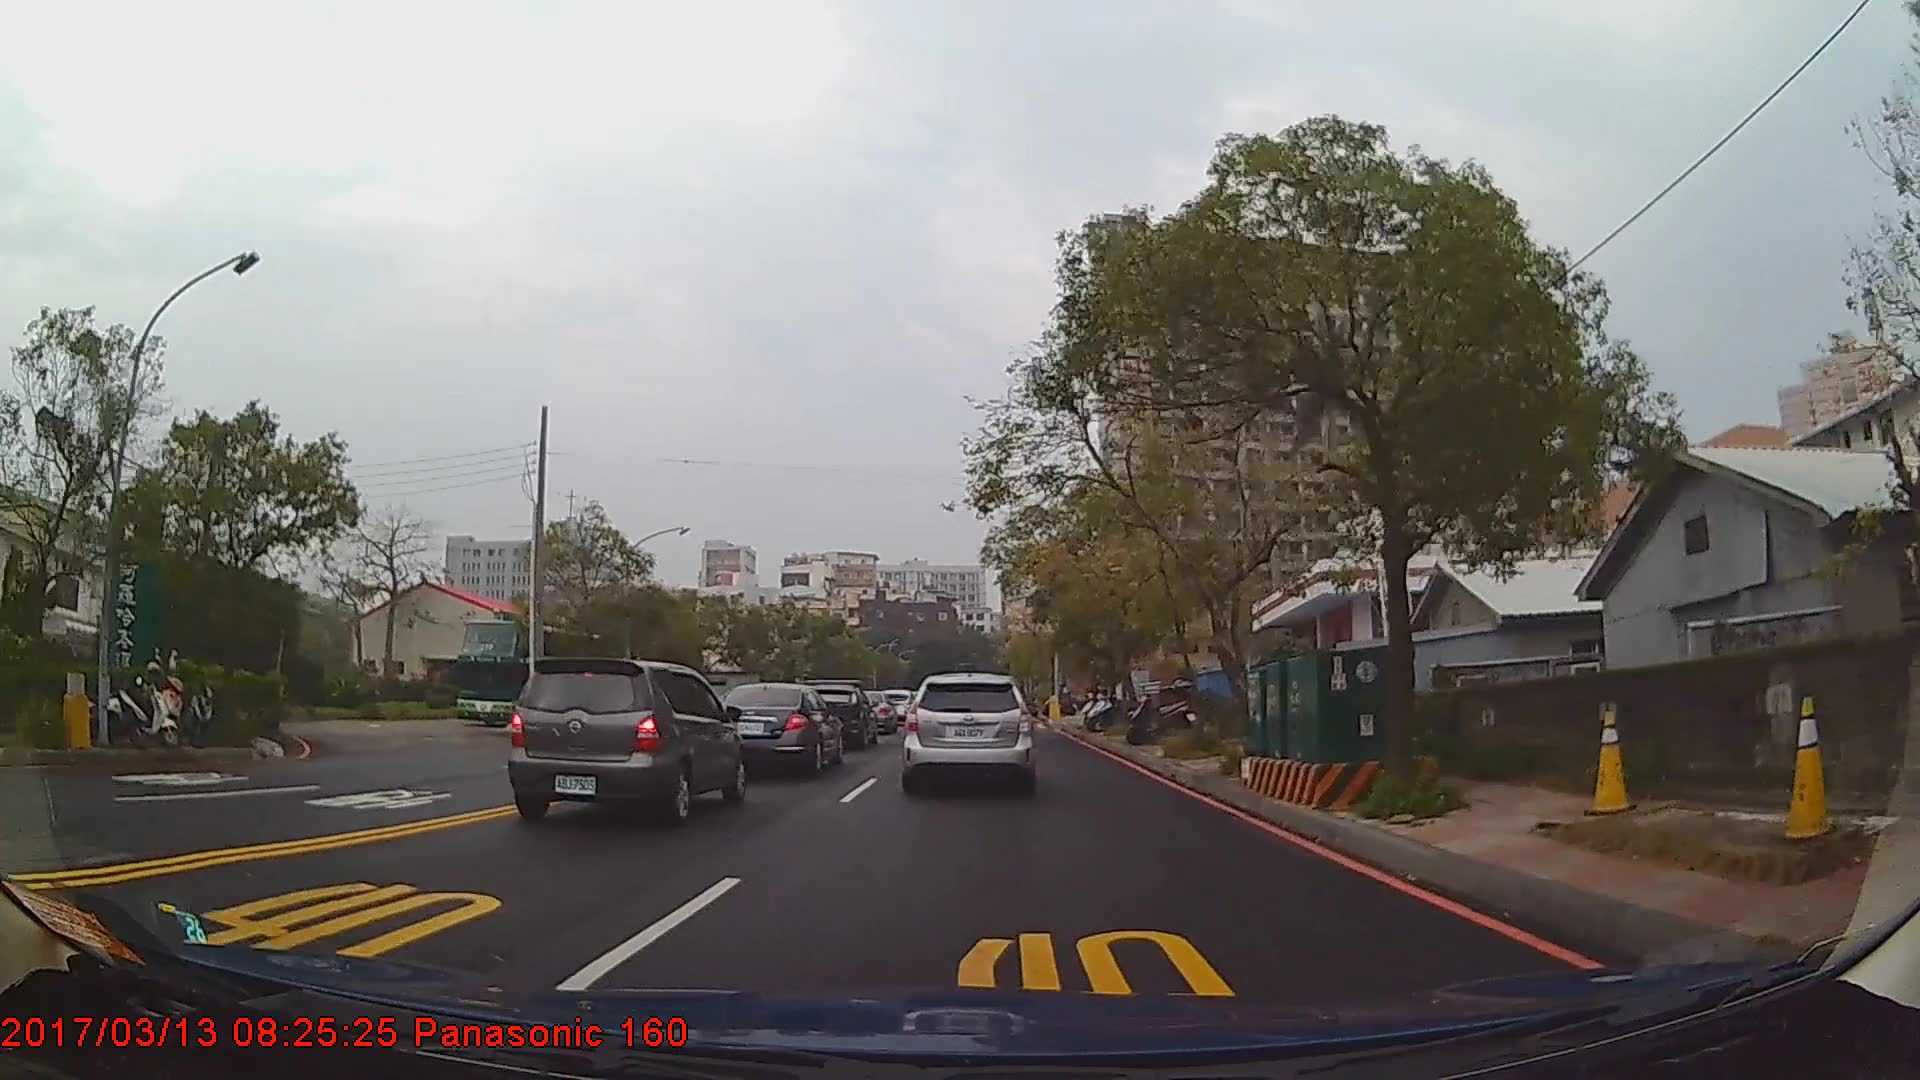vehicle: (505, 658, 746, 832), (454, 618, 624, 728), (901, 670, 1034, 789), (713, 680, 844, 777), (799, 684, 874, 749)
